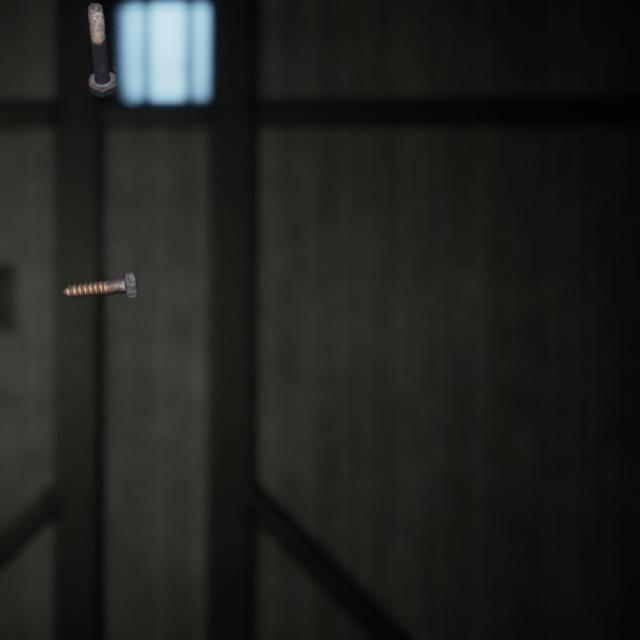bolt: (83, 0, 121, 92), (57, 250, 141, 286)
